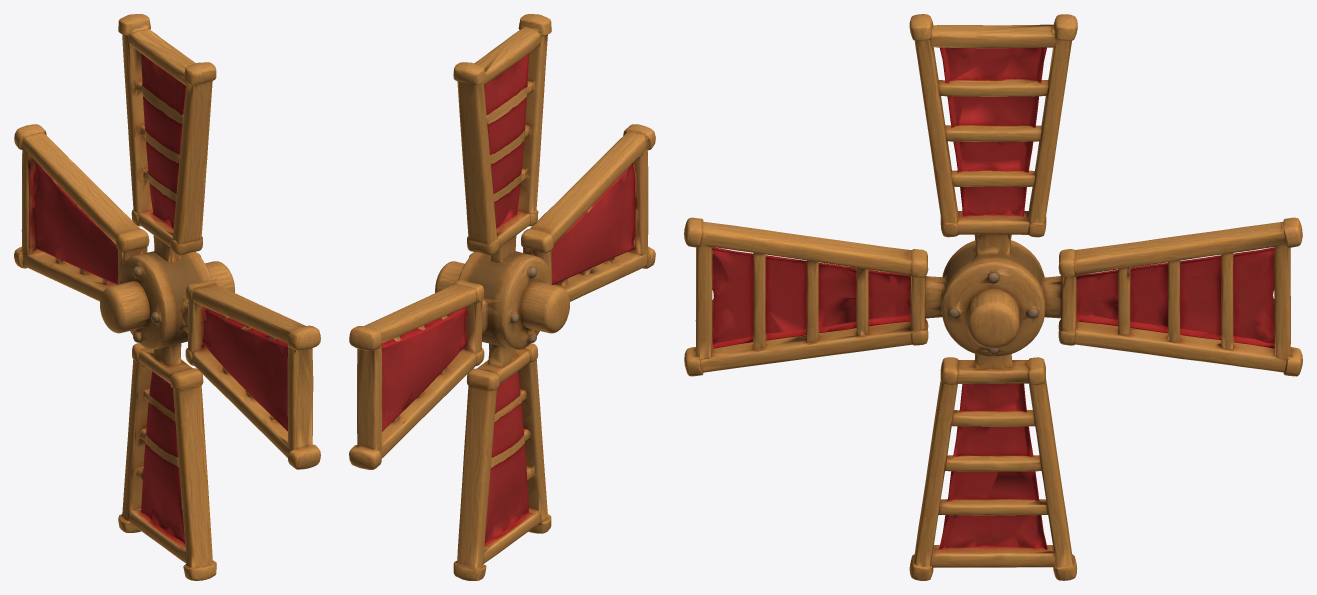
The model's file is sails.glb.
The picture shows the model from 3 angles, left to right: view 1: azimuth 30°, elevation 25°; view 2: azimuth 150°, elevation 25°; view 3: azimuth 270°, elevation 25°; orthographic projection. The views are drawn at different scales.
Visible parts, largest first — view 1: tripo_node_6745d78d-ce41-4f3b-b45b-161ce7f685d7; view 2: tripo_node_6745d78d-ce41-4f3b-b45b-161ce7f685d7; view 3: tripo_node_6745d78d-ce41-4f3b-b45b-161ce7f685d7.
Boxes of the visible parts, <box> form: tripo_node_6745d78d-ce41-4f3b-b45b-161ce7f685d7: <box>14,14,320,580</box>; tripo_node_6745d78d-ce41-4f3b-b45b-161ce7f685d7: <box>349,14,655,580</box>; tripo_node_6745d78d-ce41-4f3b-b45b-161ce7f685d7: <box>684,14,1302,580</box>.
Size of the model in its own units: 0.2428 by 0.9962 by 1.
Materials: 1 (1 with a texture image).
